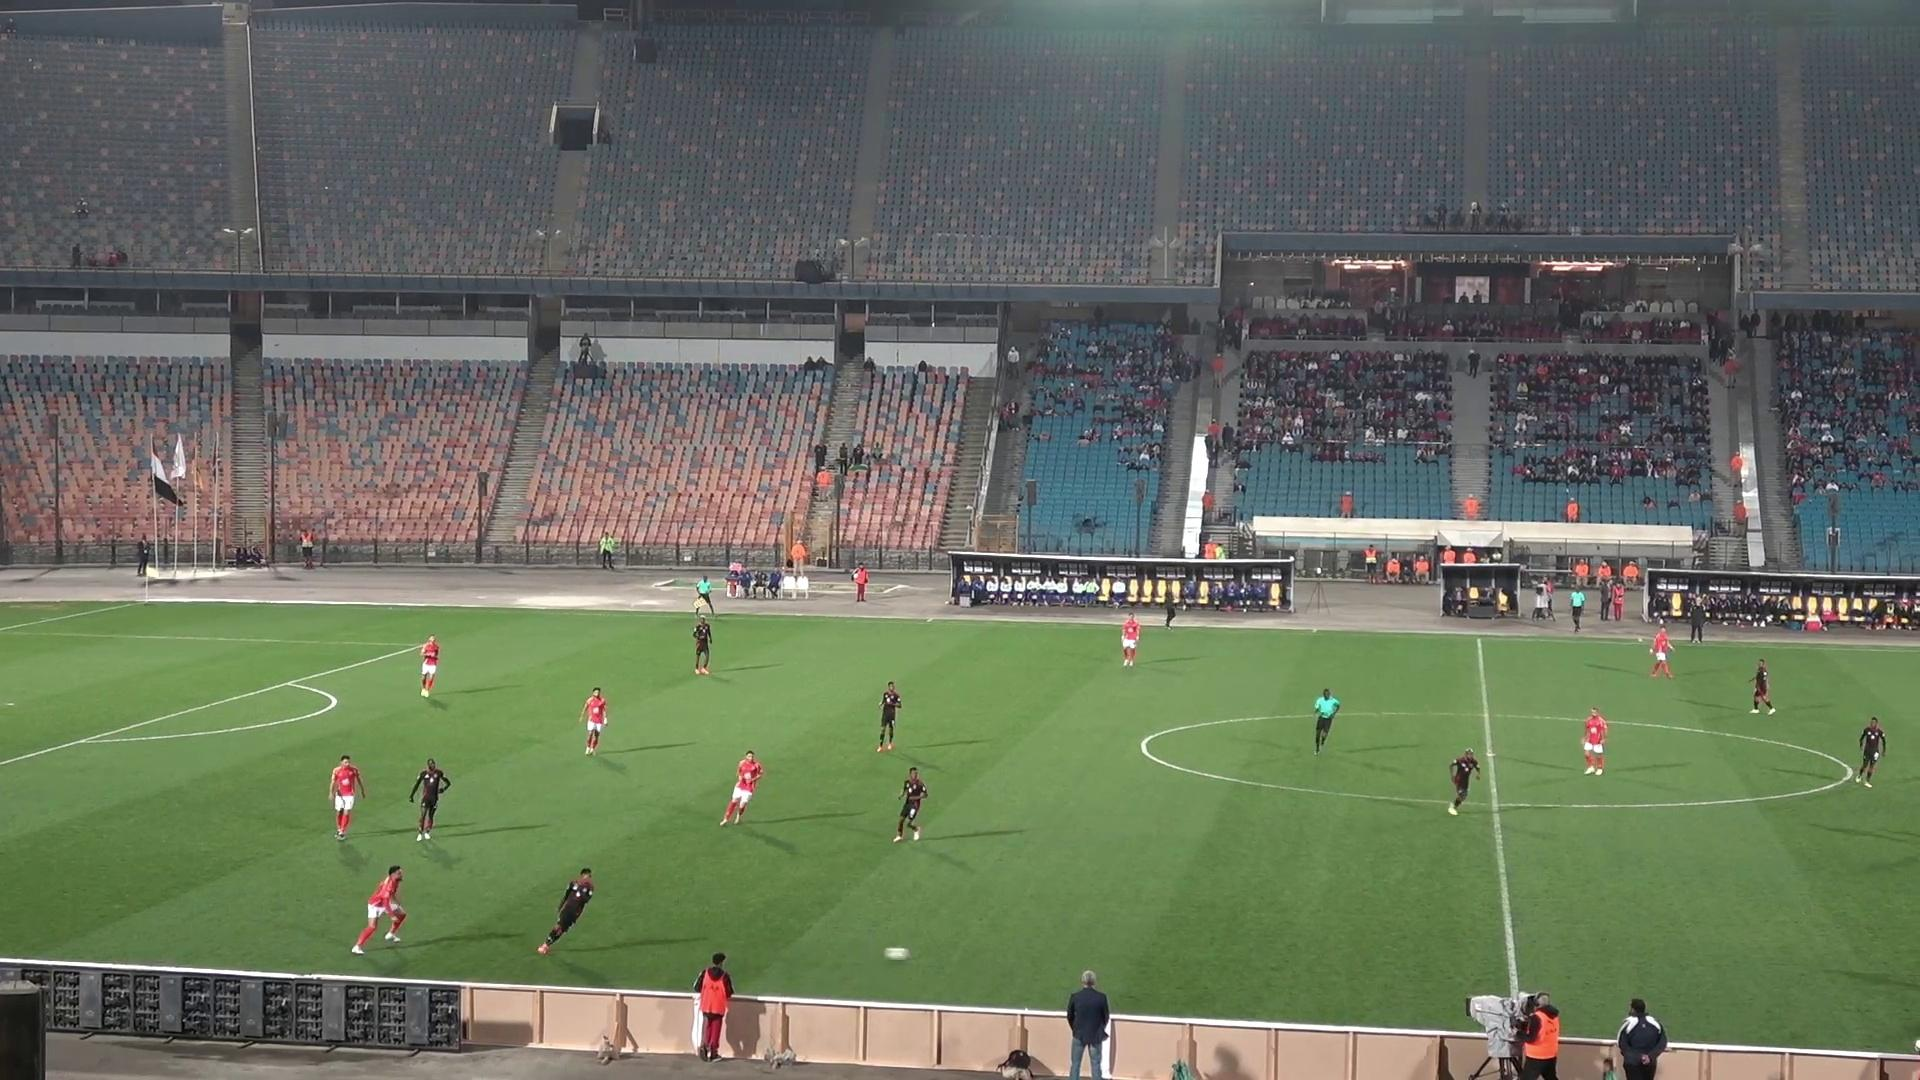Ball: (884, 945, 913, 963)
Refree: (1313, 688, 1341, 754), (694, 576, 715, 618)
Team1: (352, 866, 406, 953), (326, 756, 367, 841), (719, 752, 764, 825), (1580, 707, 1609, 775), (582, 687, 608, 756), (414, 636, 442, 698), (1648, 624, 1673, 676), (1120, 613, 1142, 667)
Team2: (537, 869, 593, 953), (407, 758, 452, 840), (1447, 748, 1486, 816), (893, 766, 928, 841), (1855, 716, 1887, 787), (876, 682, 903, 752), (690, 615, 717, 675), (1749, 661, 1778, 713)
